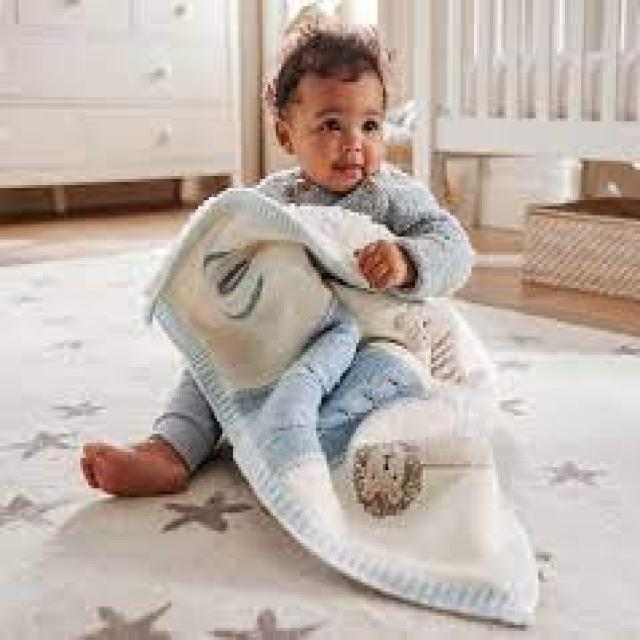blanket: (151, 188, 537, 624)
